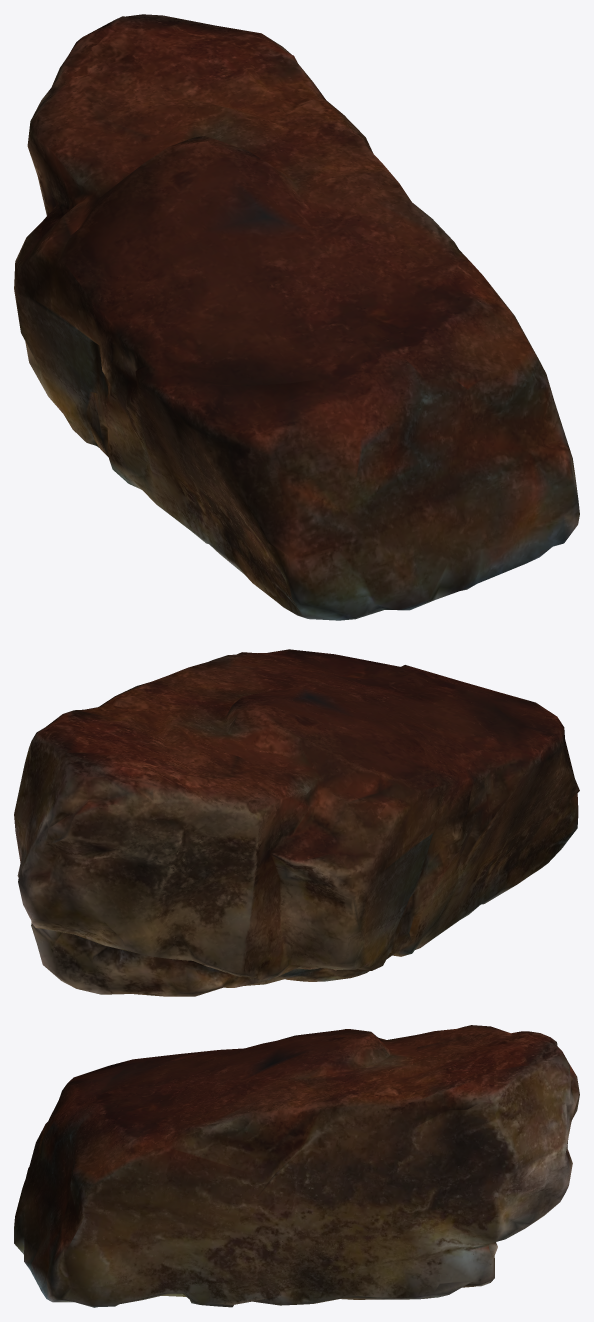
Rendered from rock_07.glb.
3 renders of one model, top to bottom at view 1: azimuth 30°, elevation 25°; view 2: azimuth 150°, elevation 25°; view 3: azimuth 270°, elevation 25°, orthographic. The views are drawn at different scales.
Parts seen in each view (by area): view 1: rock_07; view 2: rock_07; view 3: rock_07.
Boxes of the visible parts, x1,y1,x2,y2 form: rock_07: (14, 14, 579, 620); rock_07: (14, 649, 579, 996); rock_07: (14, 1025, 579, 1307).
Size of the model in its own units: 0.1681 by 0.1434 by 0.3198.
Materials: 1 (1 with a texture image).
